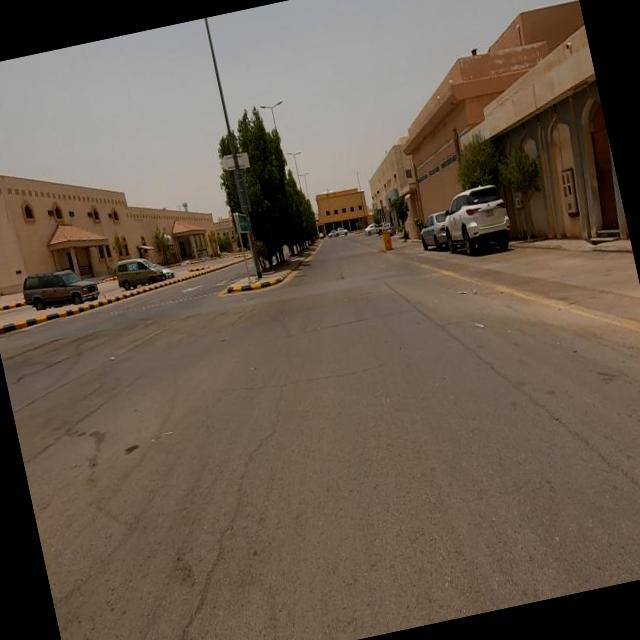debris: (100, 410, 170, 492), (434, 262, 496, 322), (458, 307, 497, 341)
